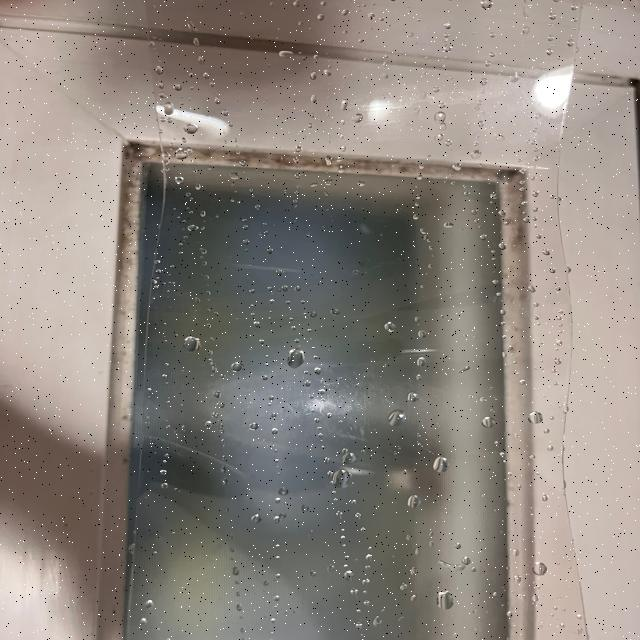raindrop: (433, 583, 474, 617), (432, 556, 470, 574), (280, 347, 312, 368), (430, 452, 451, 480), (382, 412, 410, 431), (182, 330, 207, 351), (327, 466, 348, 488), (175, 142, 197, 162), (480, 415, 504, 433), (228, 356, 249, 376), (272, 486, 293, 505), (222, 169, 248, 182), (380, 321, 402, 336), (523, 411, 542, 428), (339, 567, 359, 583), (272, 264, 296, 277), (186, 182, 205, 197), (235, 153, 254, 168), (406, 352, 425, 367), (521, 282, 540, 297), (333, 96, 354, 109), (154, 464, 173, 478), (441, 218, 460, 232), (182, 121, 204, 133), (340, 454, 358, 468), (534, 563, 548, 581), (466, 148, 484, 162), (427, 135, 449, 146), (412, 210, 428, 225), (509, 377, 534, 386), (272, 513, 288, 527), (165, 104, 181, 118), (277, 49, 294, 62), (444, 162, 461, 175), (404, 393, 424, 404), (250, 422, 268, 434), (158, 363, 176, 375), (344, 586, 362, 598), (314, 12, 332, 24), (242, 235, 259, 247), (266, 538, 286, 548), (372, 616, 390, 627), (343, 115, 361, 126), (161, 480, 177, 492), (157, 278, 173, 290), (175, 173, 191, 185), (401, 499, 417, 511), (498, 240, 514, 252), (175, 76, 188, 90), (492, 277, 508, 288), (248, 510, 262, 522), (536, 489, 550, 501), (274, 570, 289, 581), (354, 177, 369, 188), (154, 67, 172, 76), (186, 225, 202, 235), (320, 156, 340, 164), (306, 73, 318, 86), (337, 4, 350, 16), (353, 510, 367, 521), (227, 565, 242, 575), (508, 551, 523, 560), (500, 219, 512, 229), (347, 626, 363, 633), (357, 527, 368, 537), (133, 618, 143, 628), (201, 418, 211, 428), (509, 577, 520, 586), (334, 507, 342, 518), (147, 600, 159, 607), (272, 554, 281, 562)
